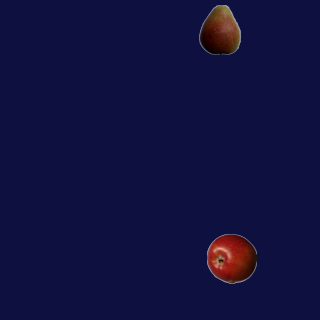Apple Braeburn: (206, 233, 256, 283)
Pear Forelle: (194, 4, 244, 54)
